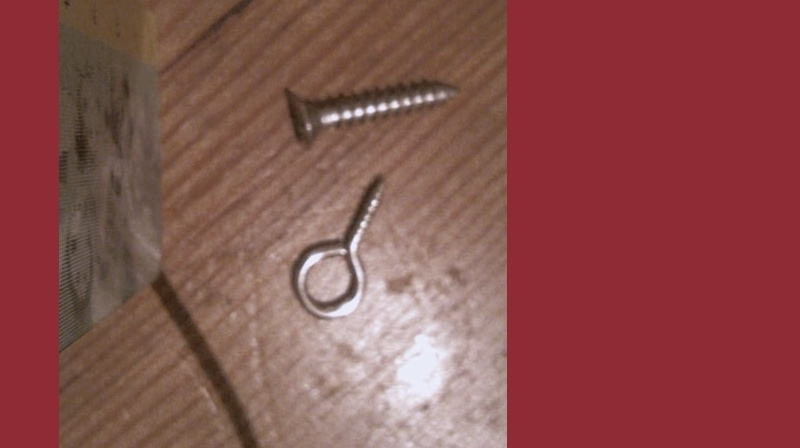O001: (289, 166, 387, 319)
S001: (286, 75, 462, 146)
